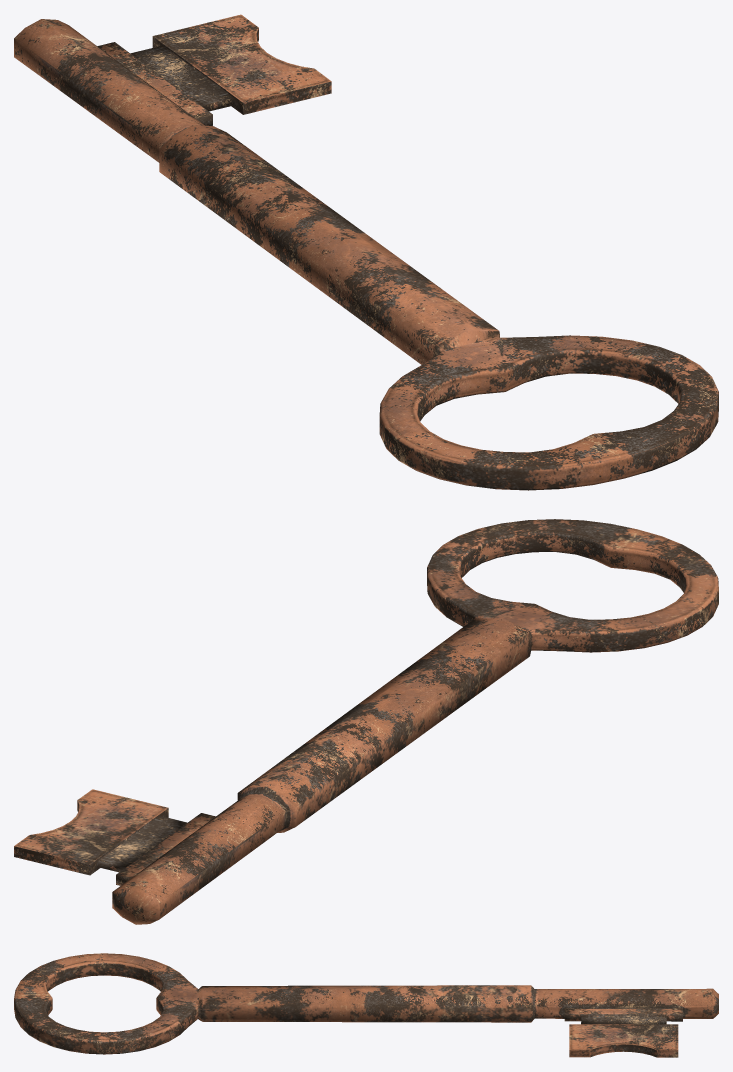
The model's file is old_rusty_key.glb.
3 views of the same model, one above another, from view 1: azimuth 30°, elevation 25°; view 2: azimuth 150°, elevation 25°; view 3: azimuth 270°, elevation 25° (orthographic). The views are drawn at different scales.
Visible parts, largest first — view 1: Old_Key; view 2: Old_Key; view 3: Old_Key.
Part boxes in pixels (x1,y1,x2,y2): Old_Key: (14, 14, 718, 490); Old_Key: (14, 519, 718, 924); Old_Key: (14, 953, 718, 1057).
Size of the model in its own units: 0.0416 by 0.00675 by 0.1315.
1 material, 1 textured.
